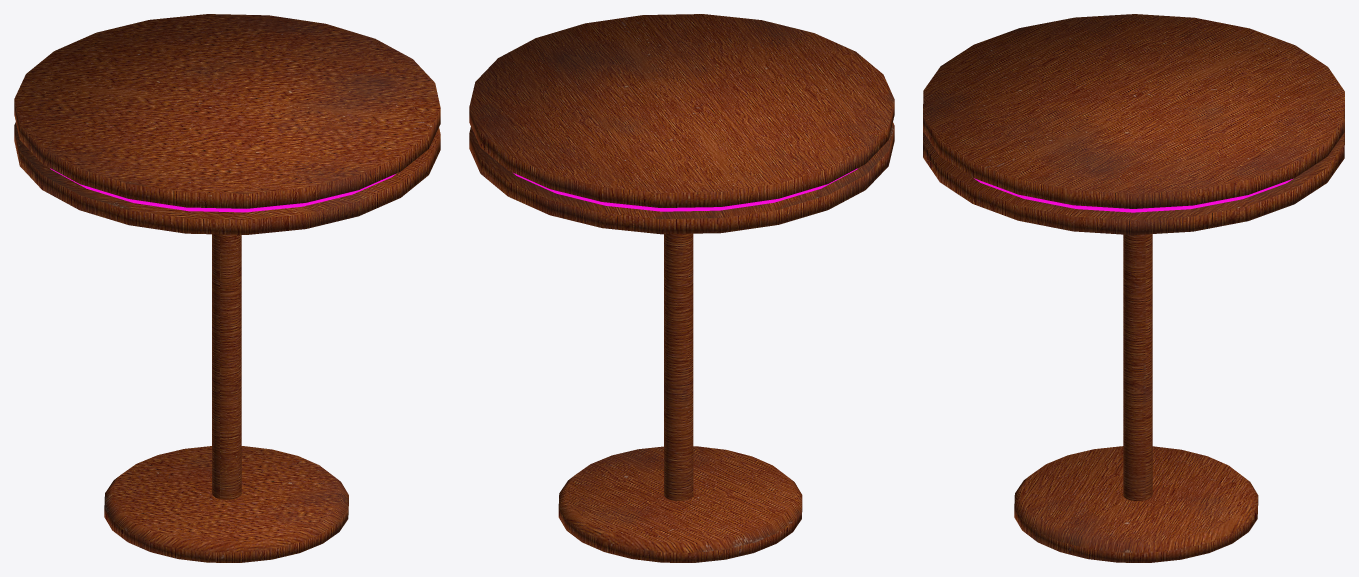
File: TABLE PINK.glb
The picture shows the model from 3 angles, left to right: view 1: azimuth 30°, elevation 25°; view 2: azimuth 150°, elevation 25°; view 3: azimuth 270°, elevation 25°; orthographic projection.
Parts seen in each view (by area): view 1: tablepink; view 2: tablepink; view 3: tablepink.
Part boxes in pixels (x1=…): tablepink: x1=14, y1=14, x2=440, y2=562; tablepink: x1=469, y1=14, x2=894, y2=562; tablepink: x1=923, y1=14, x2=1344, y2=562.
Size of what is drawn, in the model's own units: 1.1 by 1.21 by 1.09.
2 materials, 1 textured.
